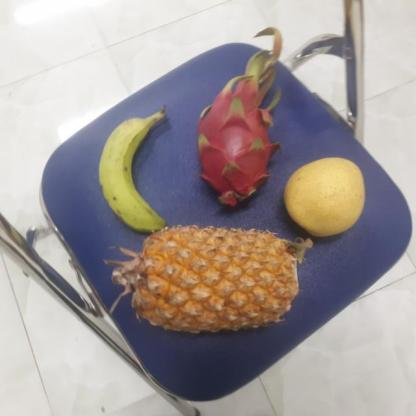banana: (96, 113, 167, 234)
pear: (283, 155, 370, 238)
pineapple: (116, 224, 303, 334)
pitaya: (193, 78, 278, 202)
